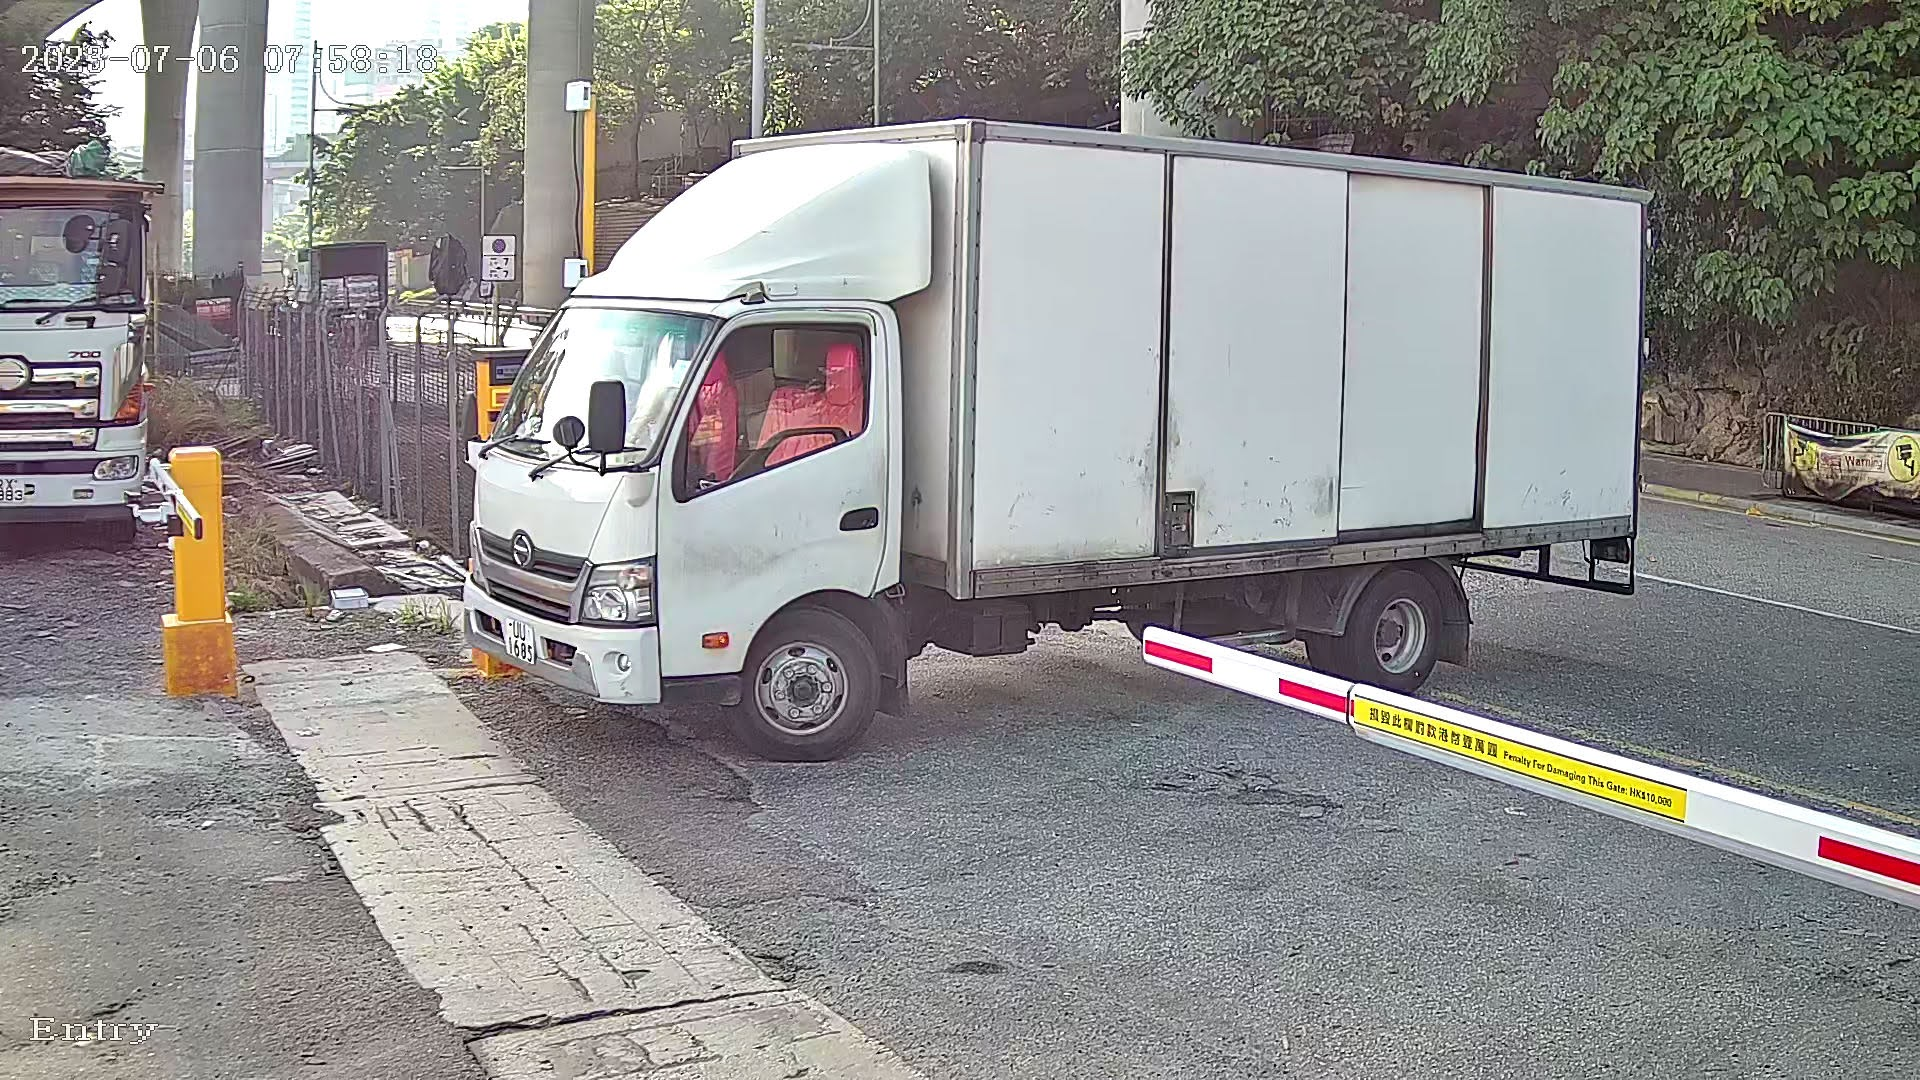truck_small: (407, 45, 1691, 789)
